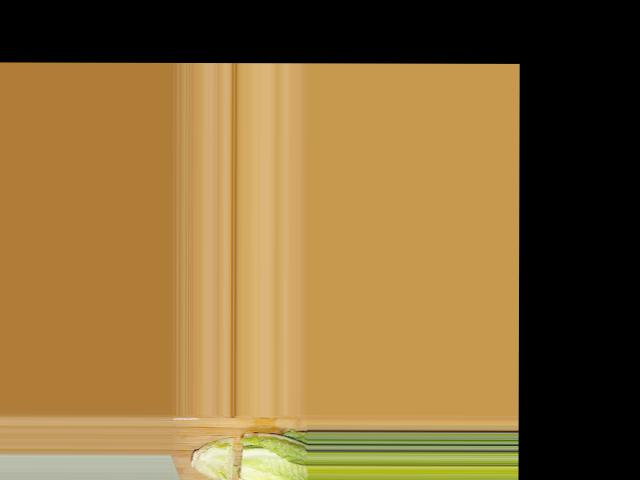lettuce: (192, 425, 306, 480)
